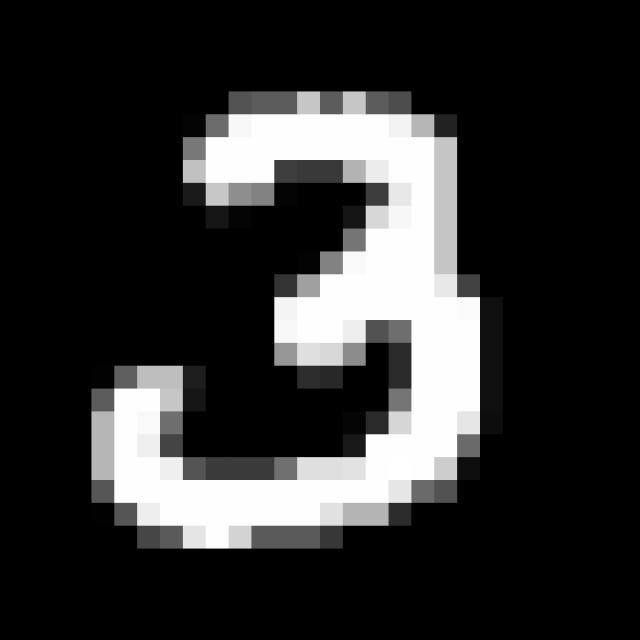three -3-: (85, 78, 495, 562)
